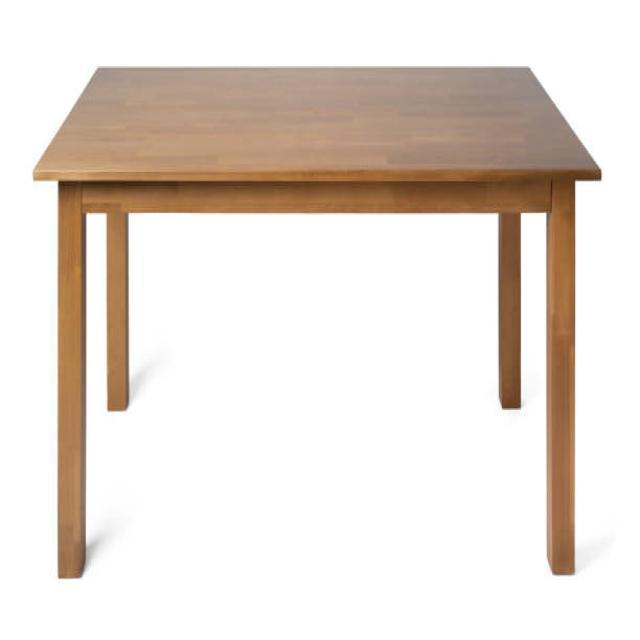table: (32, 63, 602, 580)
